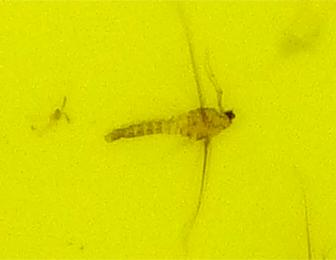Ephemeroptera: (100, 100, 236, 160)
